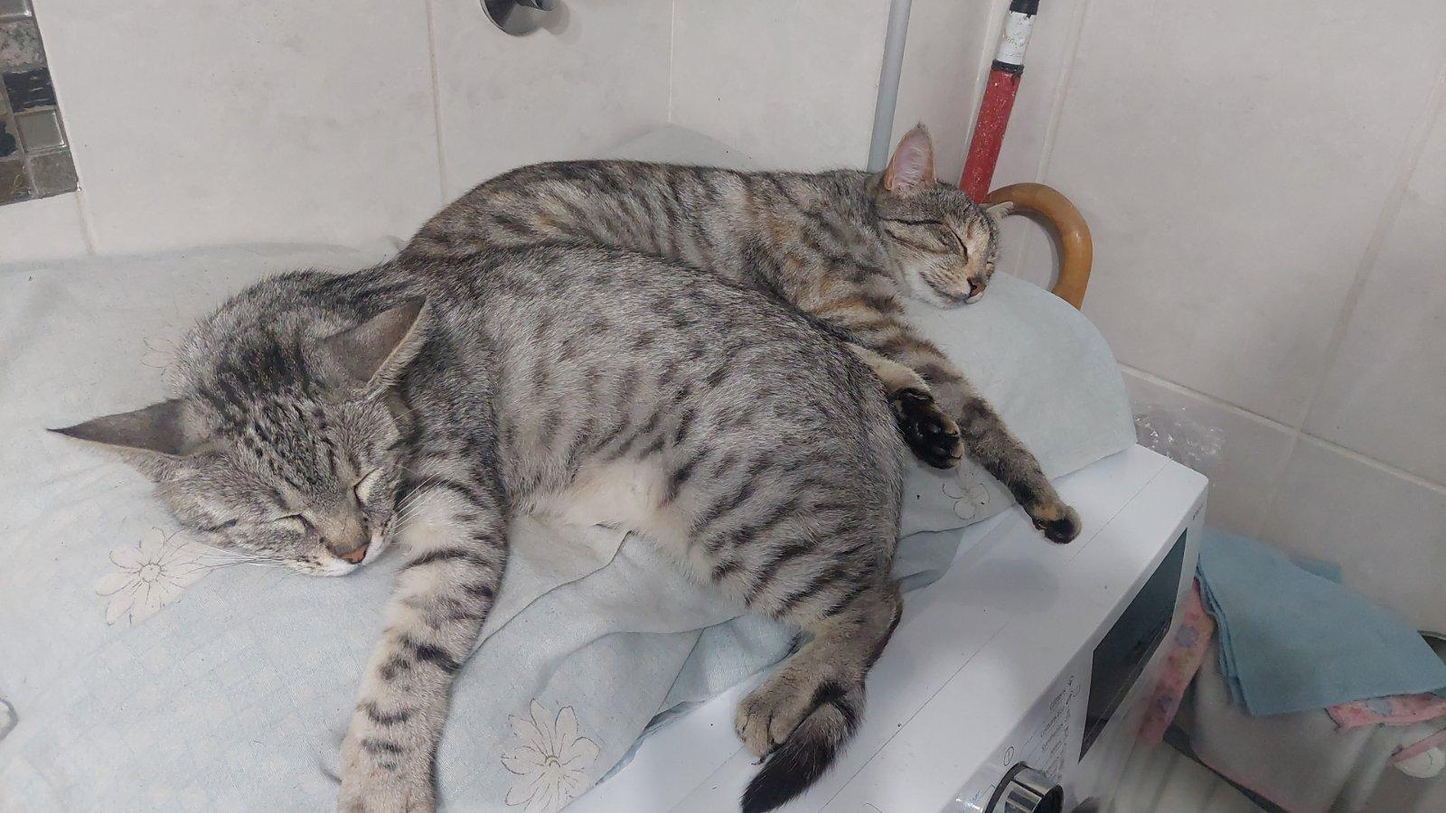macka: (54, 243, 900, 807), (403, 120, 1086, 543)
